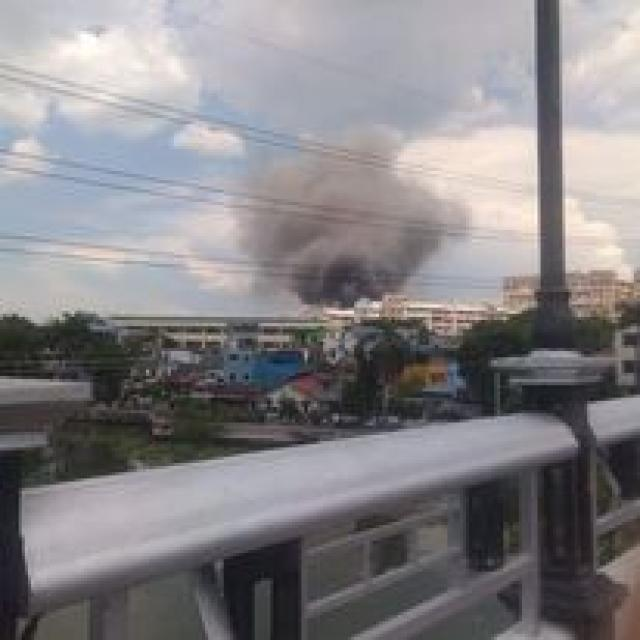Smoke: (240, 130, 464, 298)
